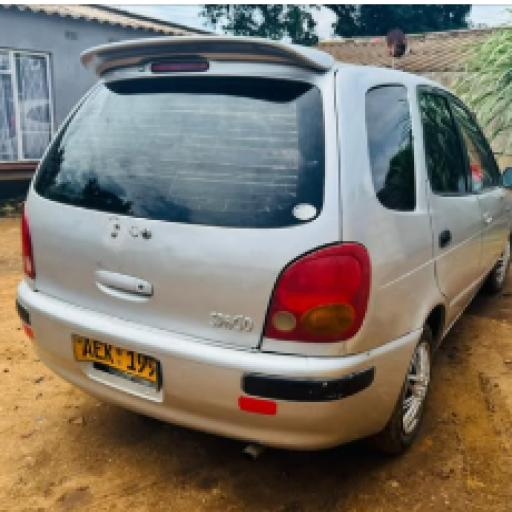number-plates: (71, 330, 158, 382)
